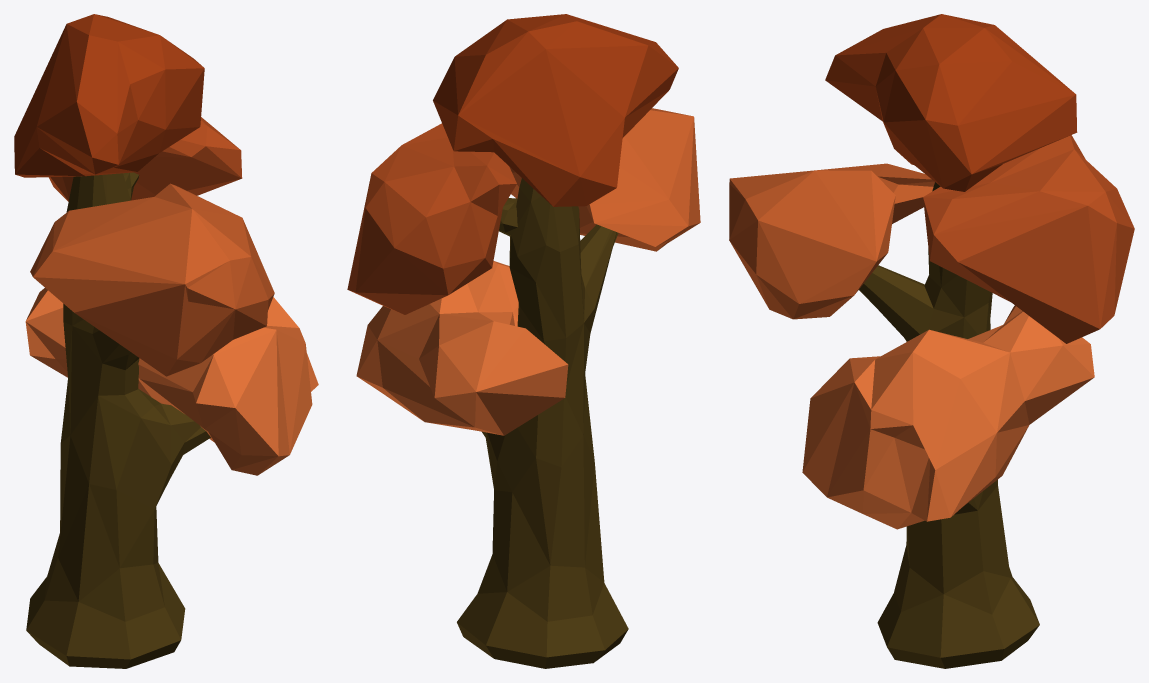
The model's file is Tree_01.fbx.
The picture shows the model from 3 angles, left to right: view 1: azimuth 30°, elevation 25°; view 2: azimuth 150°, elevation 25°; view 3: azimuth 270°, elevation 25°; orthographic projection.
Parts seen in each view (by area): view 1: Tree_01; view 2: Tree_01; view 3: Tree_01.
Boxes of the visible parts, x1,y1,x2,y2 form: Tree_01: [14, 14, 318, 668]; Tree_01: [347, 14, 700, 668]; Tree_01: [729, 14, 1134, 668].
Bounding box in the file's own units: 405 × 784 × 465.
